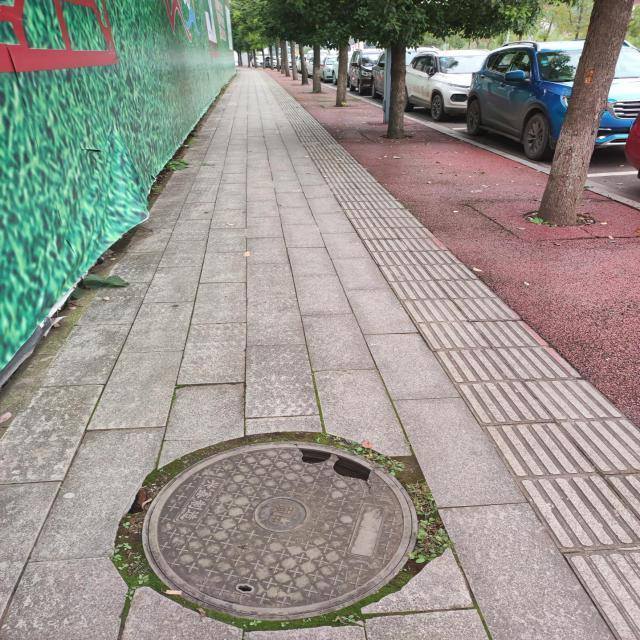manhole: (114, 432, 448, 630)
